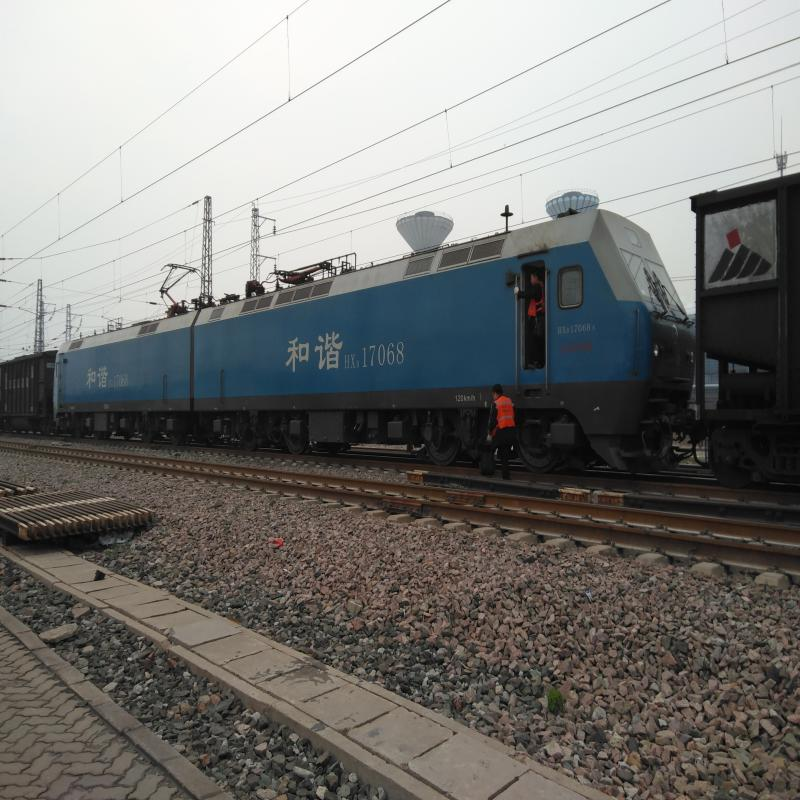train: (197, 235, 671, 455)
